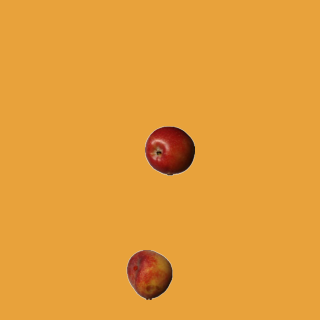Apple Braeburn: (144, 125, 194, 175)
Peach: (124, 249, 174, 299)
